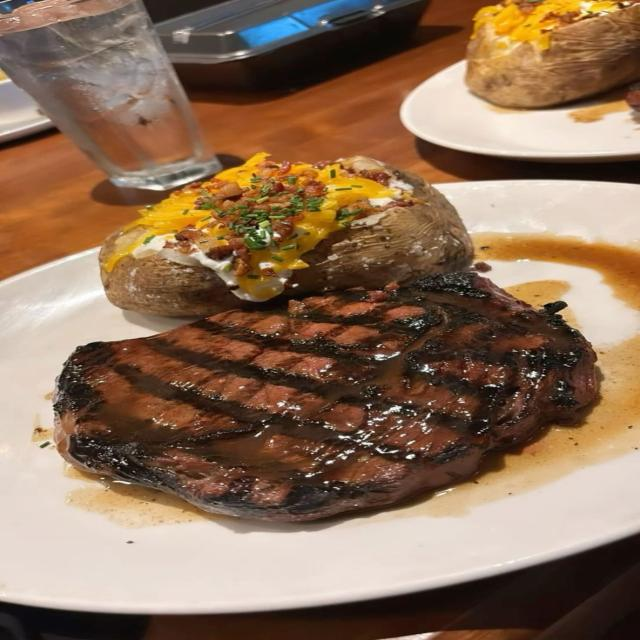beef steak: (55, 273, 597, 520)
boiled potato: (99, 153, 472, 316)
